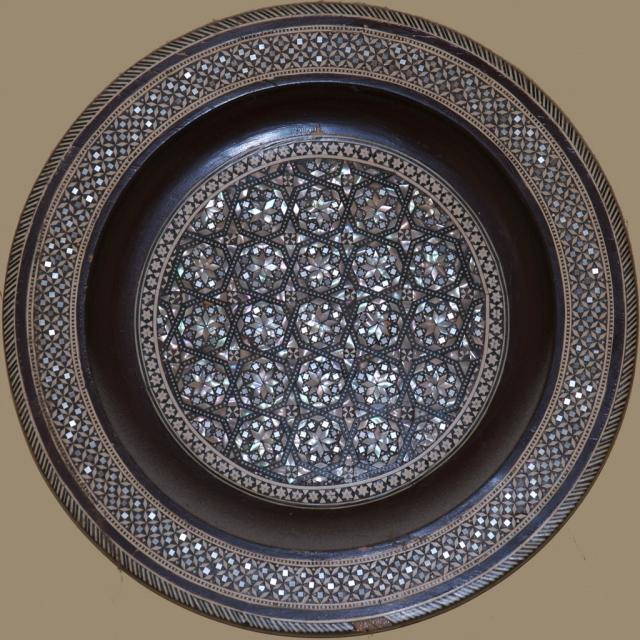non-organic waste: (10, 16, 640, 637)
